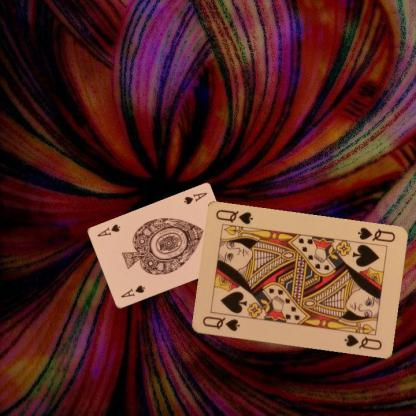As: (118, 282, 146, 300), (181, 190, 208, 206)
Qs: (199, 314, 241, 333), (355, 225, 396, 244)
